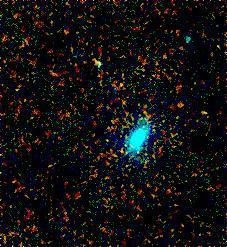star: (165, 90, 195, 120)
